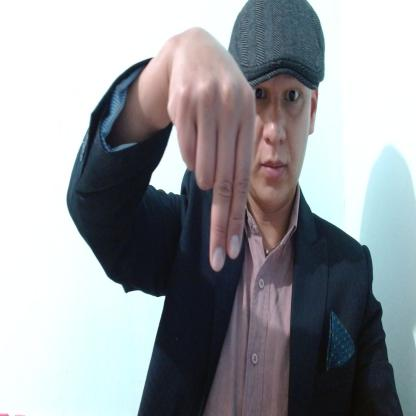N: (167, 27, 255, 272)
